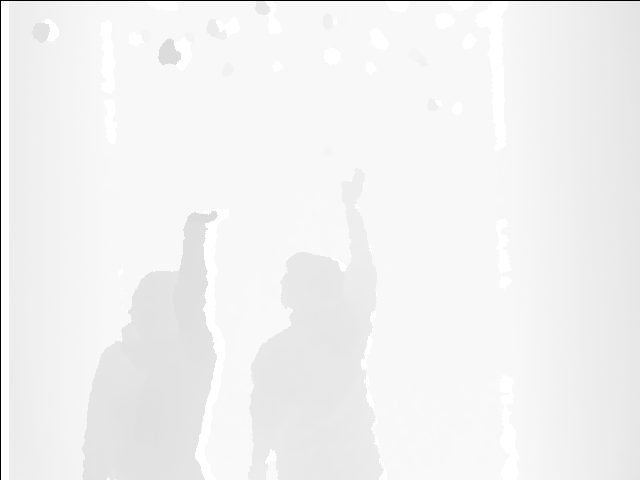hand: (178, 206, 223, 241), (342, 164, 364, 210)
